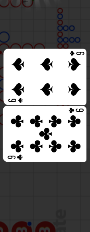4C: (67, 107, 84, 115)
6C: (68, 50, 85, 57)
